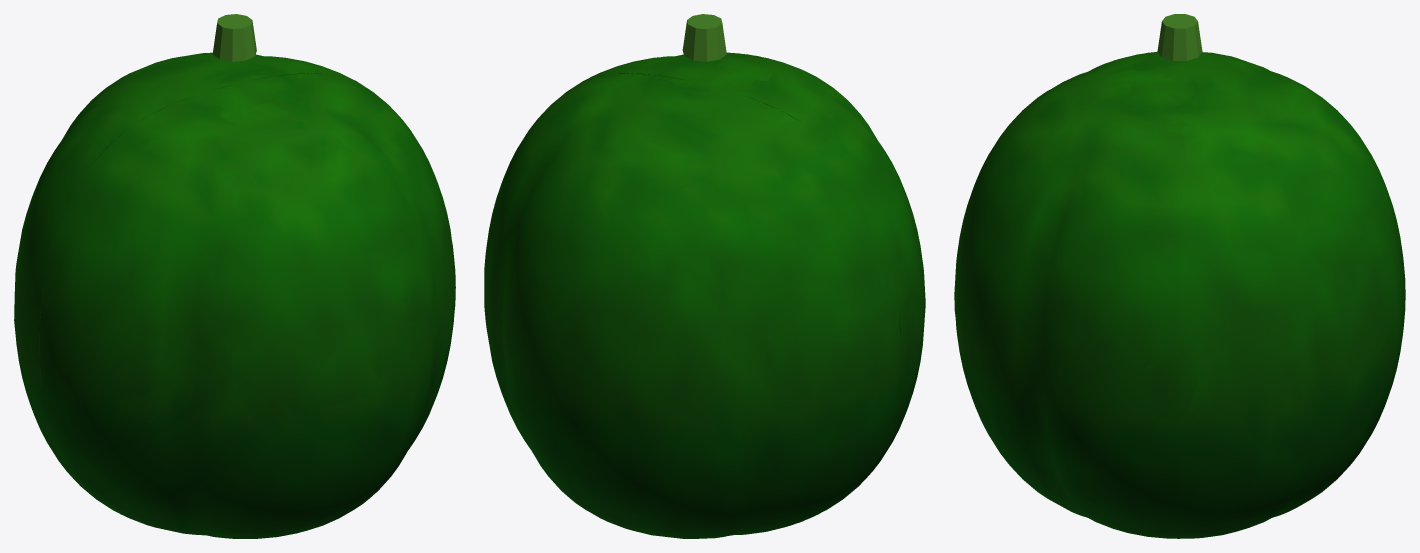
File: poivron-vert.glb
3 renders of one model, left to right at view 1: azimuth 30°, elevation 25°; view 2: azimuth 150°, elevation 25°; view 3: azimuth 270°, elevation 25°, orthographic.
Visible parts, largest first — view 1: entier_peau, moitie_B_peau, moitie_A_peau, entier_extra0; view 2: entier_peau, moitie_A_peau, moitie_B_peau, entier_extra0; view 3: entier_peau, moitie_B_peau, moitie_A_peau, entier_extra0.
Boxes of the visible parts, left/top/right/bottom form: entier_peau: left=14, top=53, right=455, bottom=538; moitie_B_peau: left=39, top=73, right=455, bottom=538; moitie_A_peau: left=14, top=52, right=353, bottom=468; entier_extra0: left=212, top=14, right=256, bottom=61; entier_peau: left=484, top=53, right=925, bottom=538; moitie_A_peau: left=484, top=73, right=900, bottom=538; moitie_B_peau: left=577, top=52, right=925, bottom=473; entier_extra0: left=682, top=14, right=726, bottom=61; entier_peau: left=954, top=52, right=1403, bottom=538; moitie_B_peau: left=955, top=52, right=1179, bottom=538; moitie_A_peau: left=1180, top=52, right=1405, bottom=538; entier_extra0: left=1157, top=14, right=1202, bottom=60.
Bounding box in the file's own units: 1.6 × 1.89 × 1.6.
